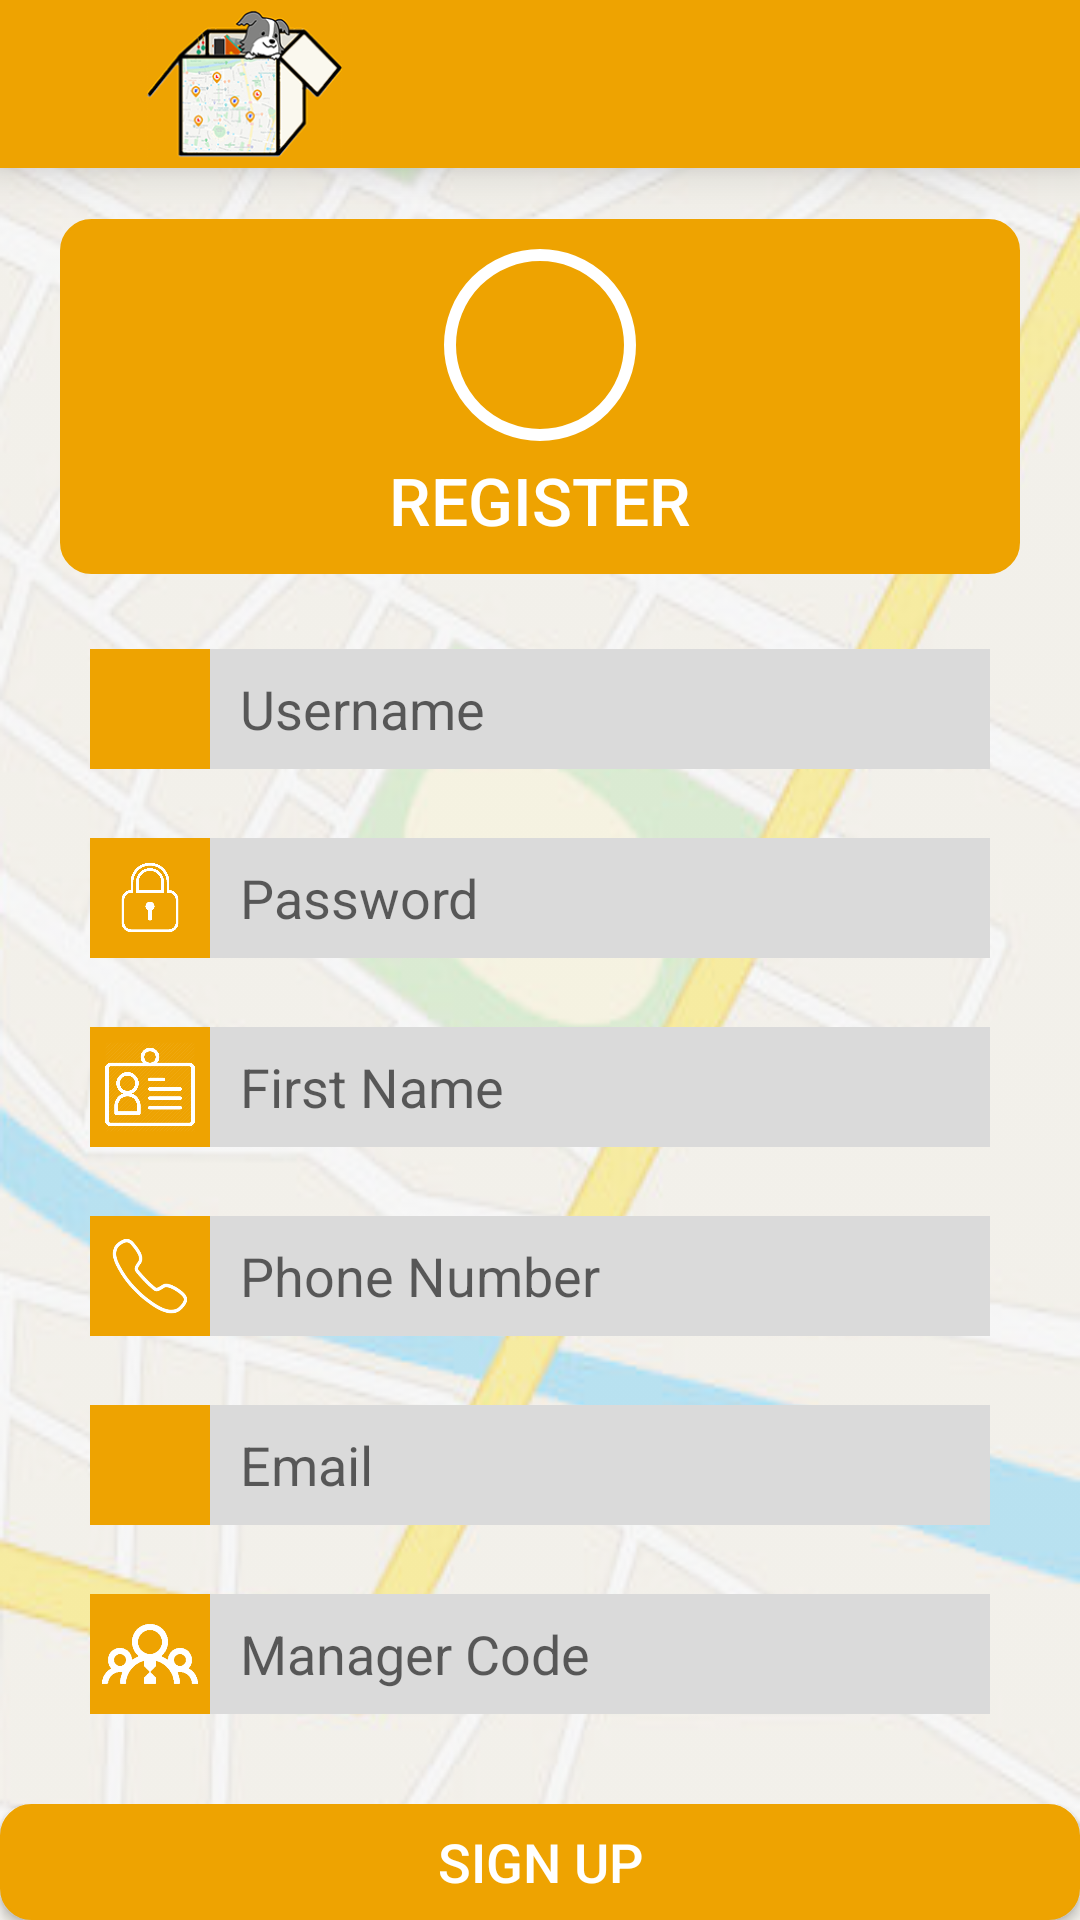

Icon click points for this 1080×1920 phone screenshot, format point (x, y):
lockicon: point (150, 898)
managericon: point (150, 1654)
nametagicon: point (150, 1087)
